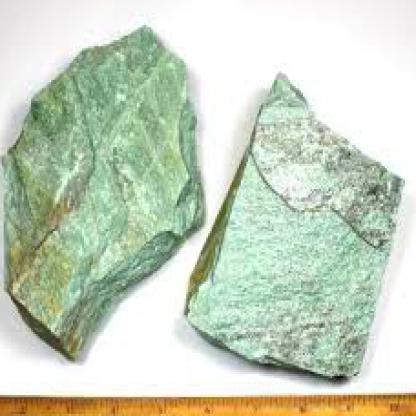Metamorphic_Quartize: (195, 48, 414, 404), (0, 13, 210, 369)
